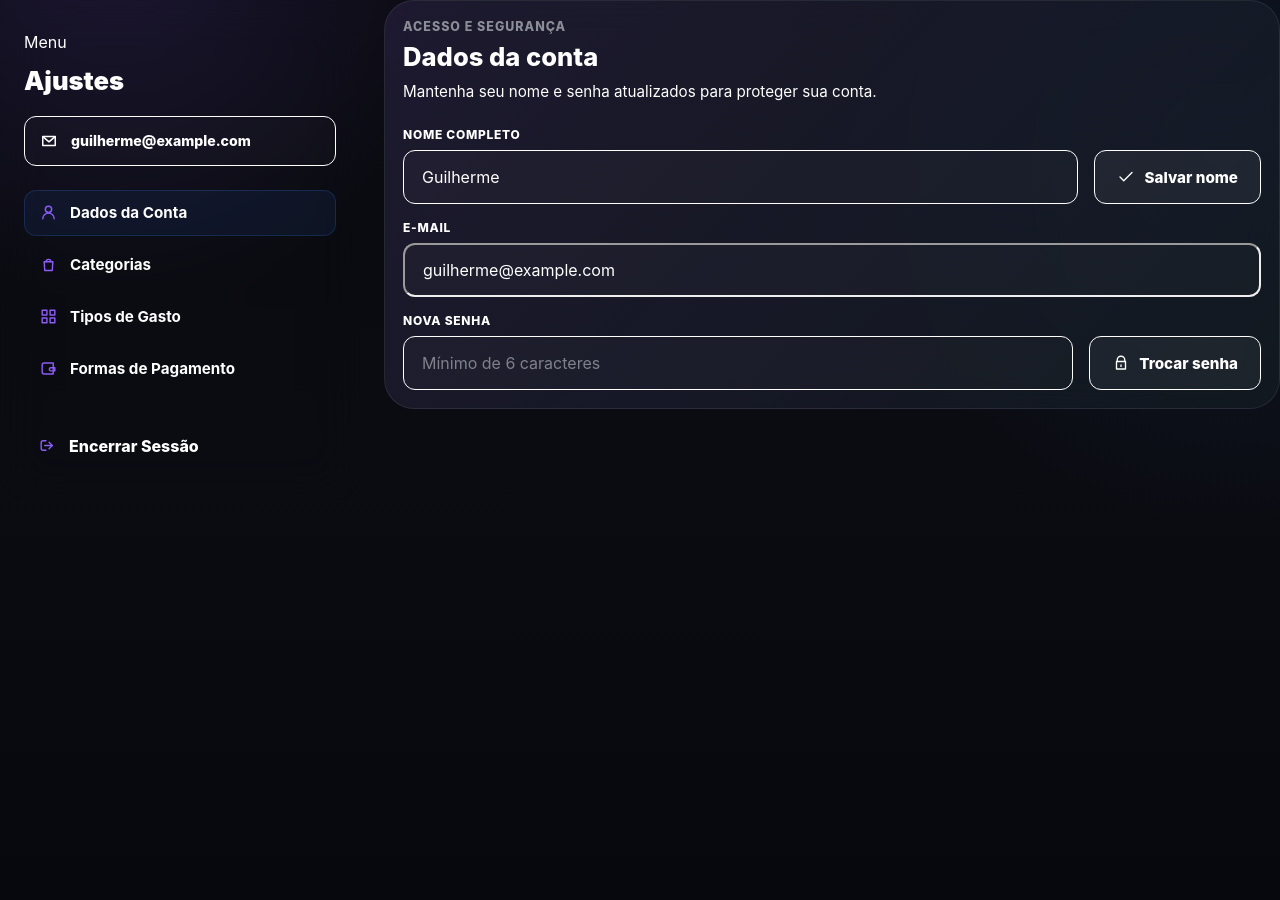
Test: AccountSettingsPanel › mostra apenas a seção ativa e destaca o botão lateral selecionado
expect the heading "Dados da conta" is shown: met, box [403, 41, 598, 72]
Click the button "Categorias": (111, 265) [24, 242, 336, 288]
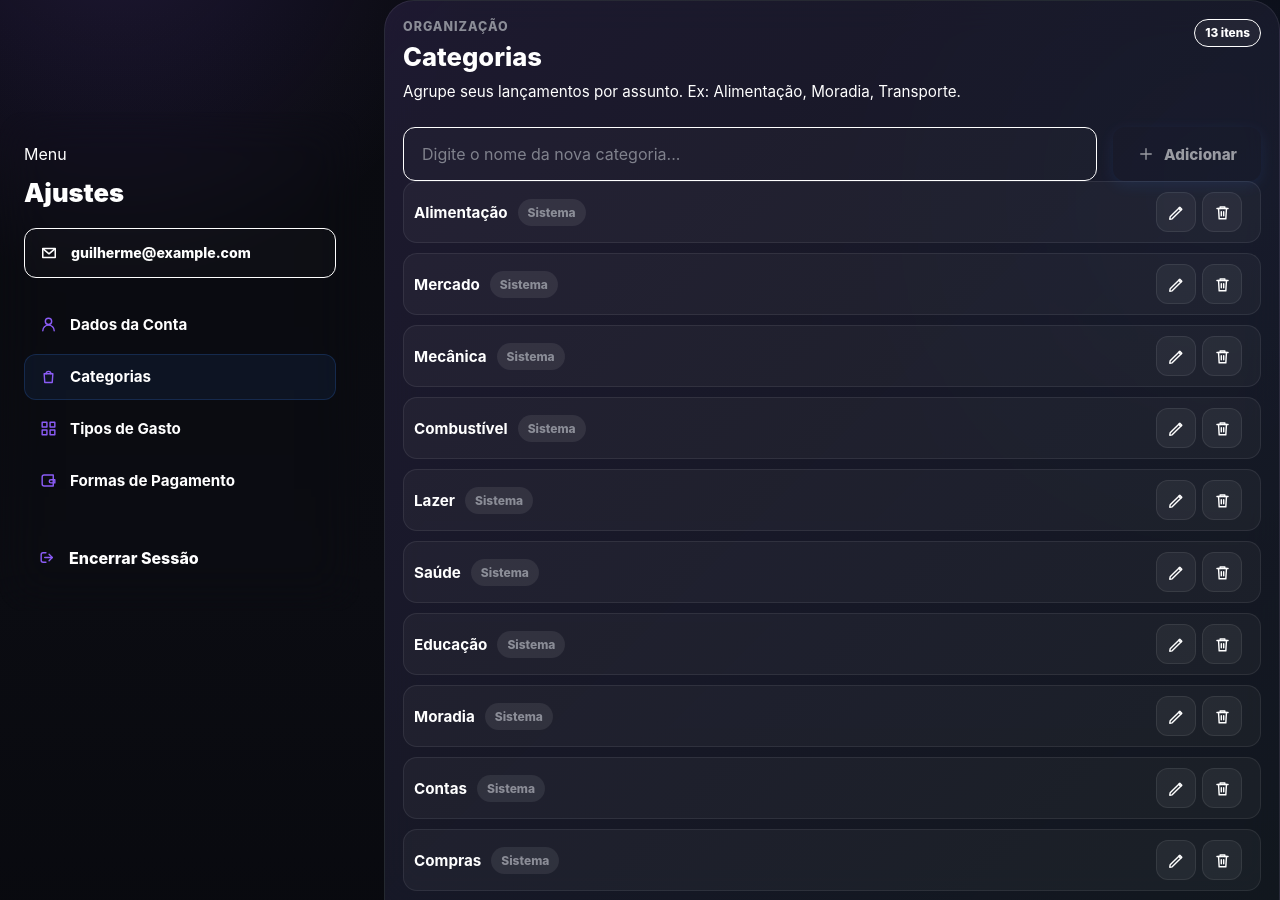
expect the heading "Categorias" is shown: met, box [403, 41, 542, 72]
